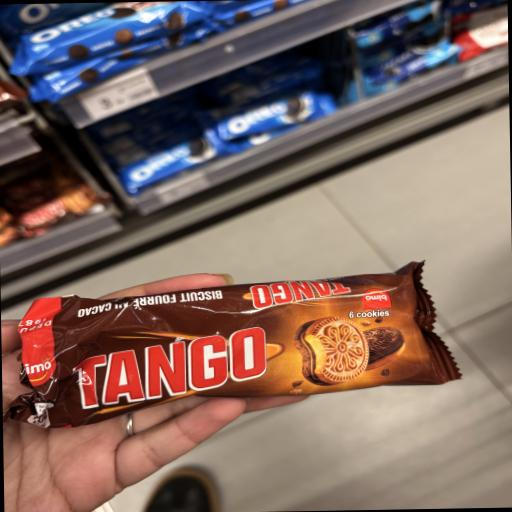tango: (0, 252, 476, 442)
